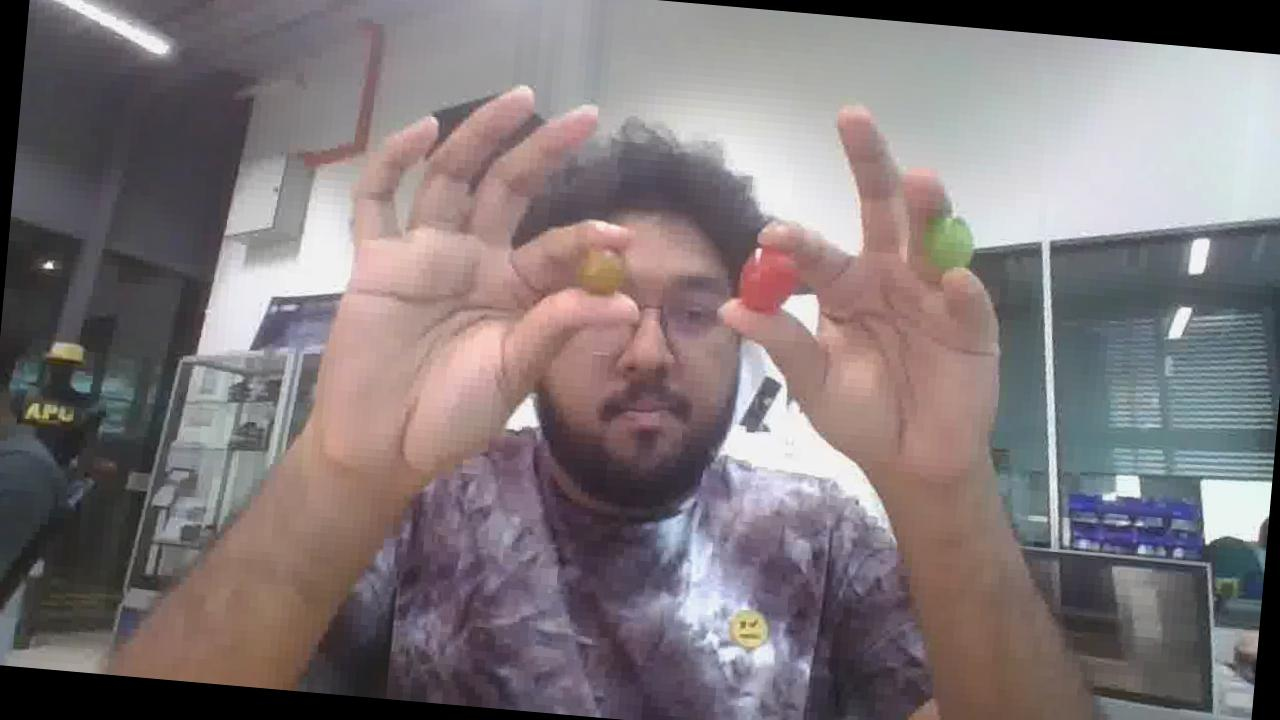green_cherry_tomato: (923, 215, 974, 271)
red_cherry_tomato: (740, 247, 797, 313)
yellow_cherry_tomato: (578, 250, 624, 294)
